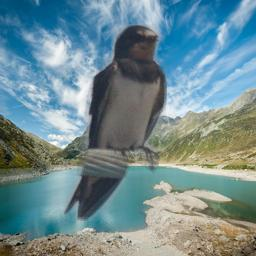Swallow: (63, 24, 167, 221)
